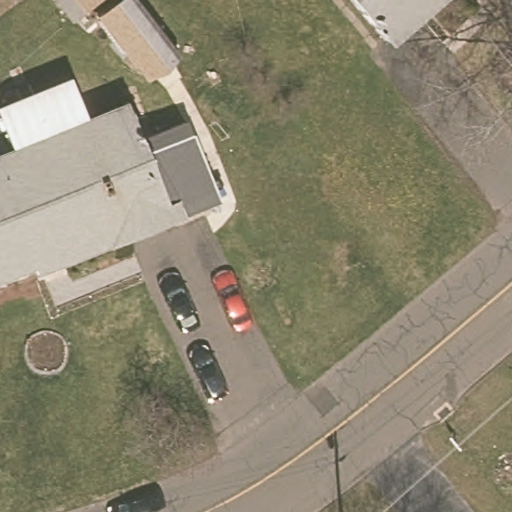DT: (449, 438, 465, 454)
